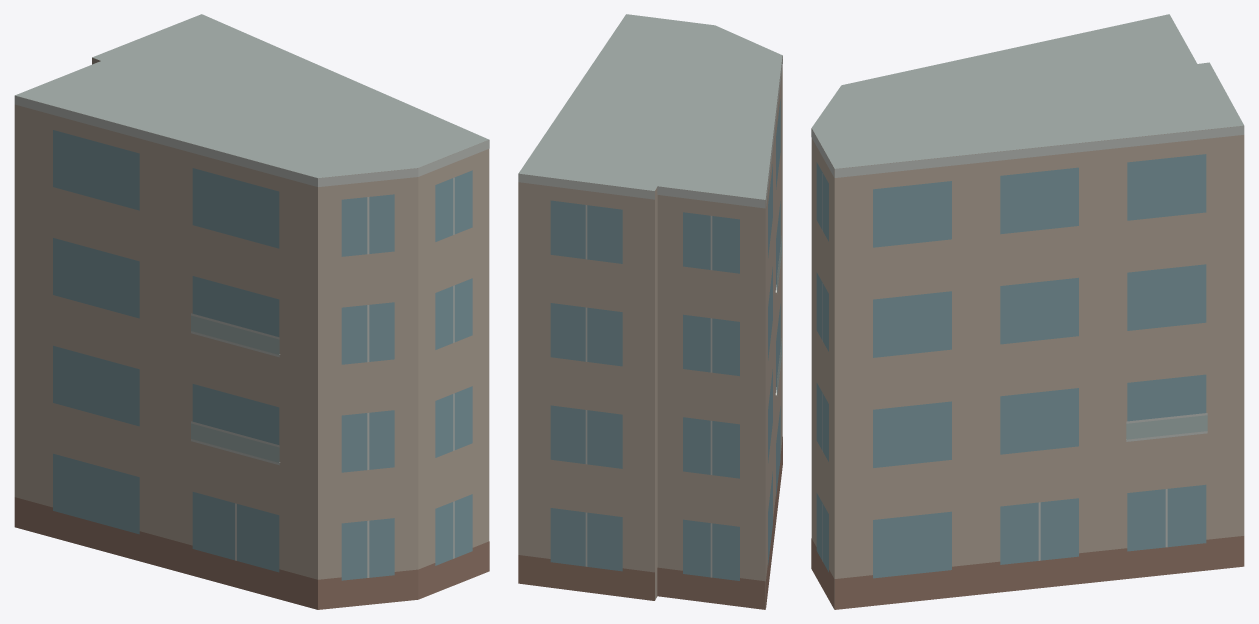
File: survey-upis-32474331.glb
3 renders of one model, left to right at view 1: azimuth 30°, elevation 25°; view 2: azimuth 150°, elevation 25°; view 3: azimuth 270°, elevation 25°, orthographic. The views are drawn at different scales.
Parts seen in each view (by area): view 1: survey-upis-32474331.tmp; view 2: survey-upis-32474331.tmp; view 3: survey-upis-32474331.tmp.
Boxes of the visible parts, x1,y1,x2,y2 form: survey-upis-32474331.tmp: (14, 14, 489, 609); survey-upis-32474331.tmp: (518, 14, 782, 609); survey-upis-32474331.tmp: (811, 14, 1244, 609).
Size of the model in its own units: 8.83 by 11.7 by 10.42.
